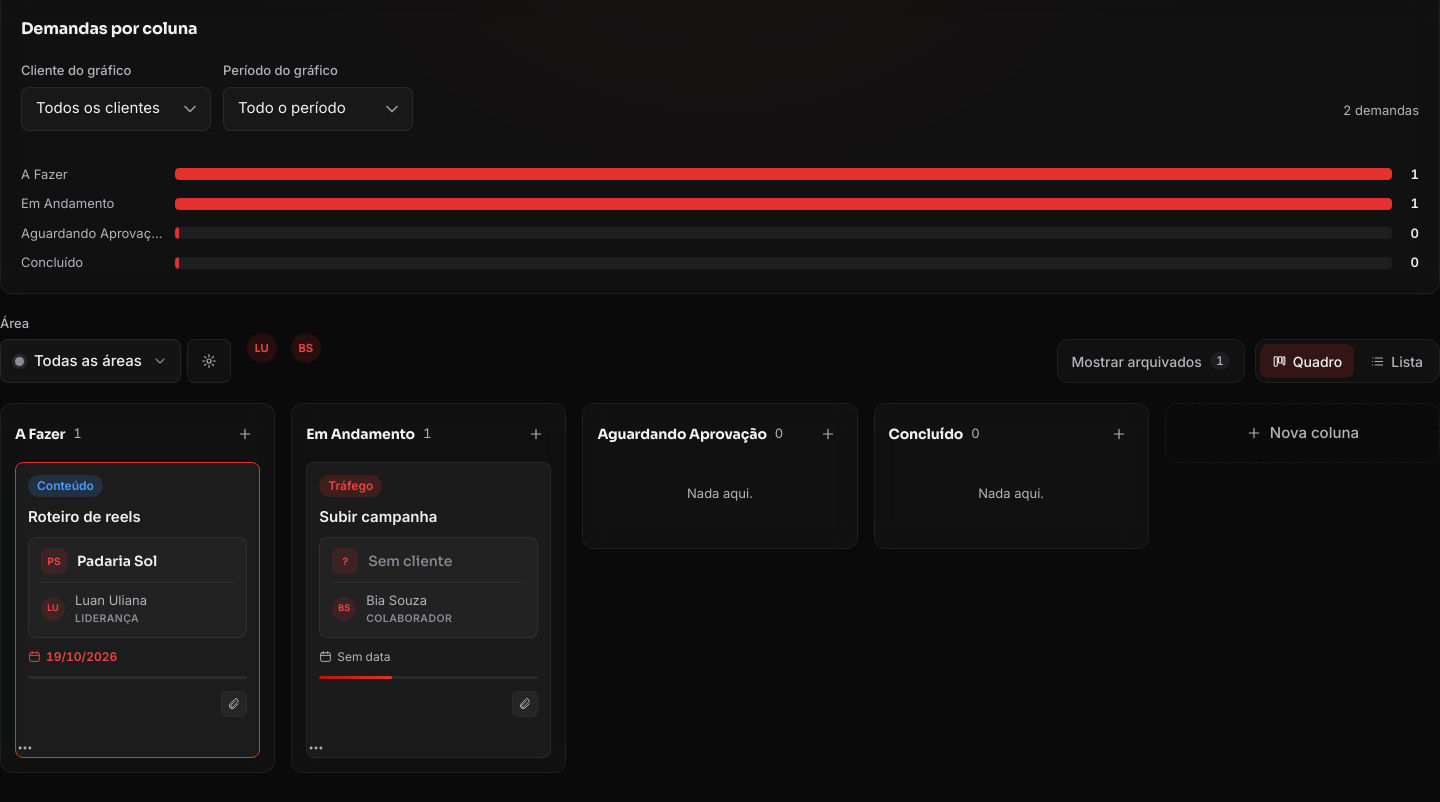
Test: DemandasPage › cria a demanda na coluna escolhida e registra a atividade
The width and height of the screenshot is (1440, 802).
Check: the text "Roteiro de reels" is shown, box [28,507,141,526]
Click the button named "Adicionar em Em Andamento".
click(536, 434)  # box [521,419,551,449]
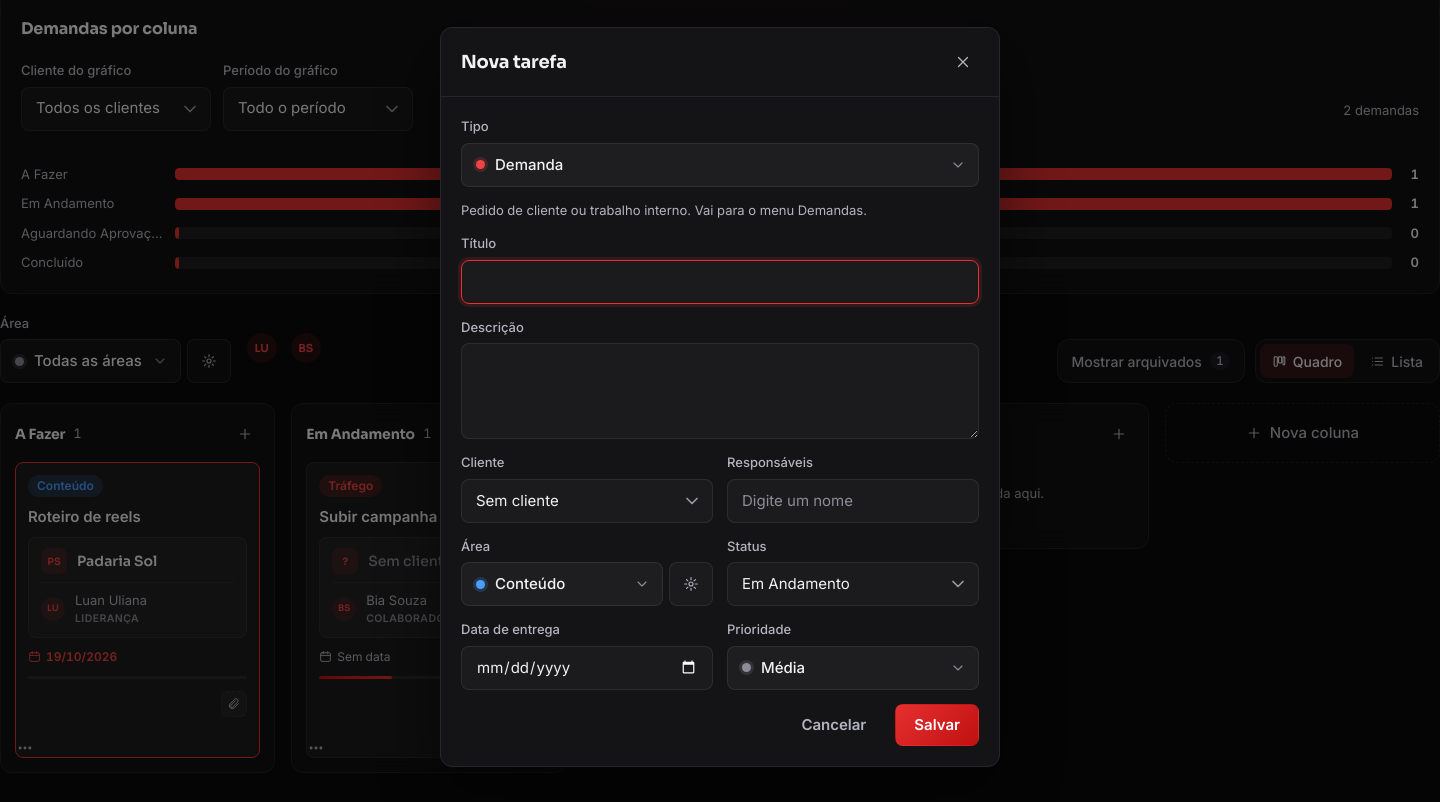
Check: the dropdown labelled "Status" shows "Em Andamento", box [727,562,979,606]
Type "Relatório mensal" into the field labelled "Título".
click(720, 282); type("Relatório mensal")  # box [461,260,979,304]
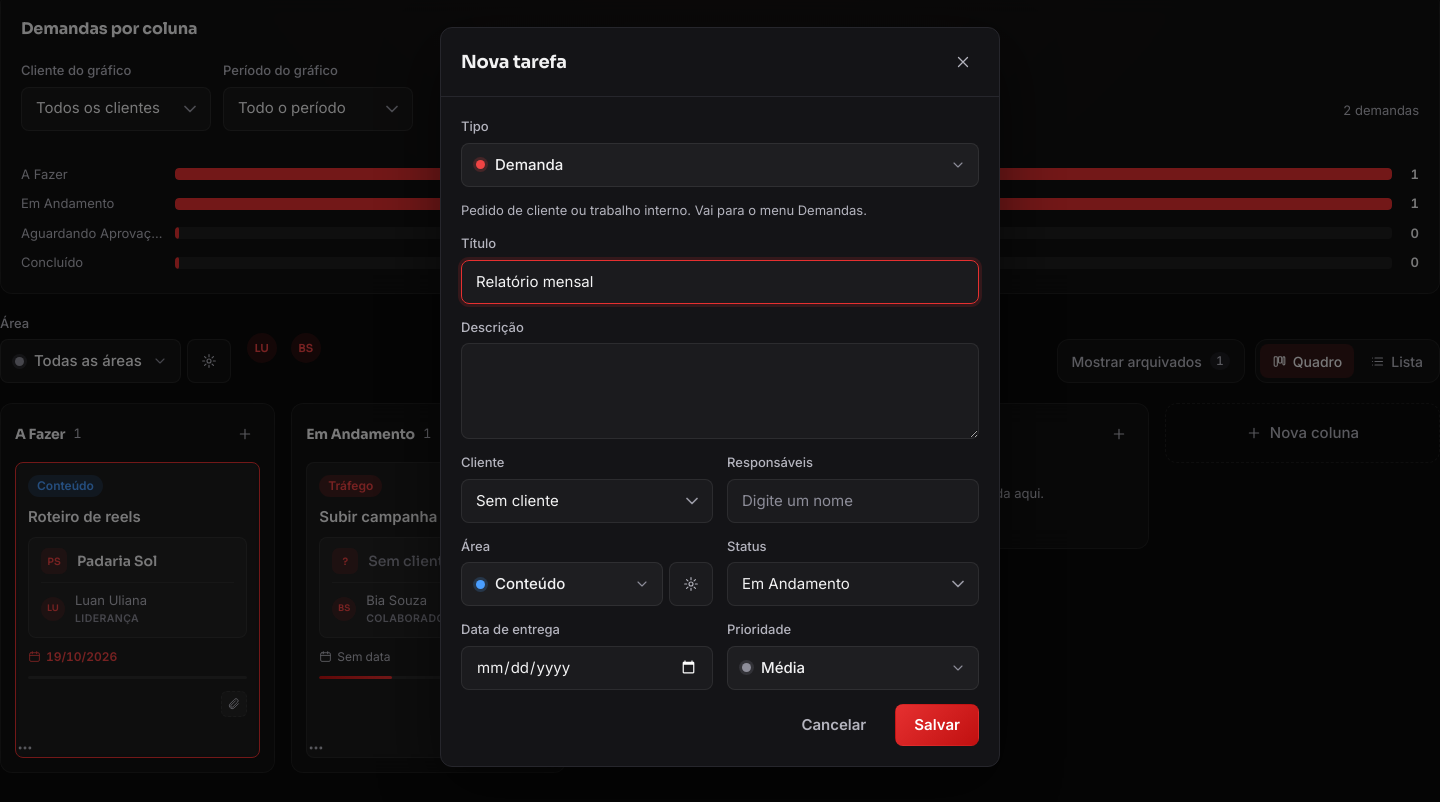
Select "Padaria Sol" in the dropdown labelled "Cliente" at (587,501), box [461,479,713,523]
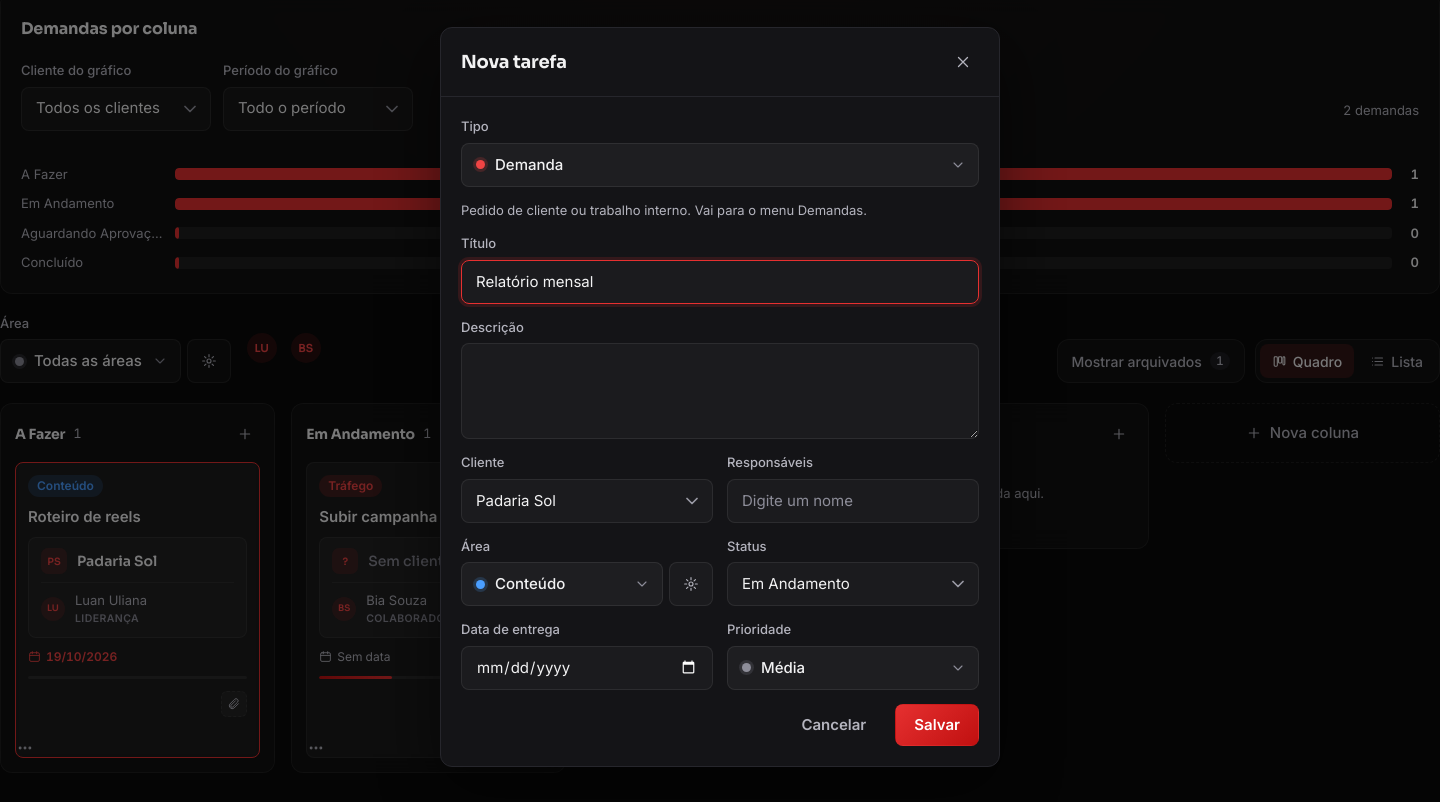
Click the dropdown named "Área".
click(562, 584)  # box [461,562,663,606]
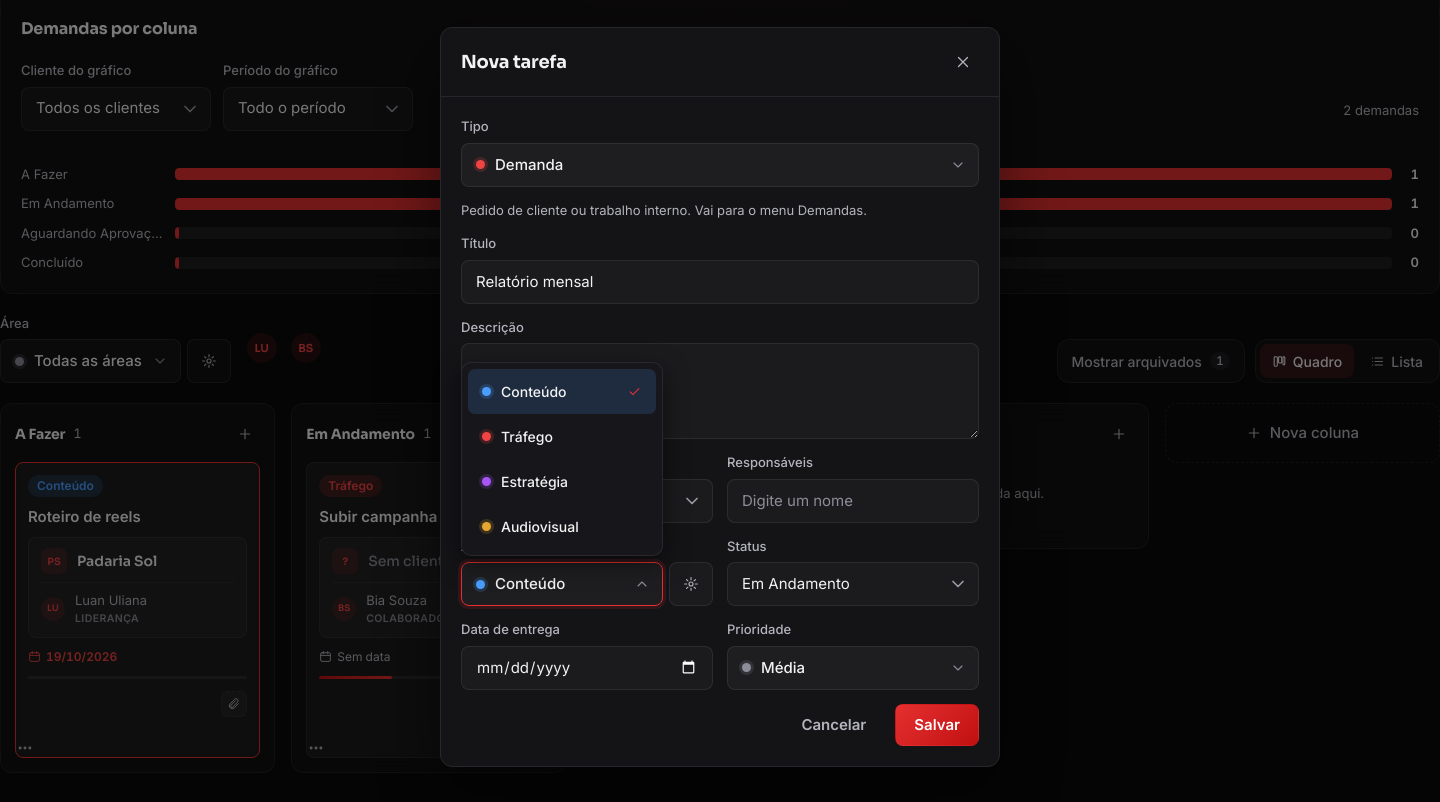
Click the option "Estratégia".
click(525, 482)  # box [482,473,568,490]
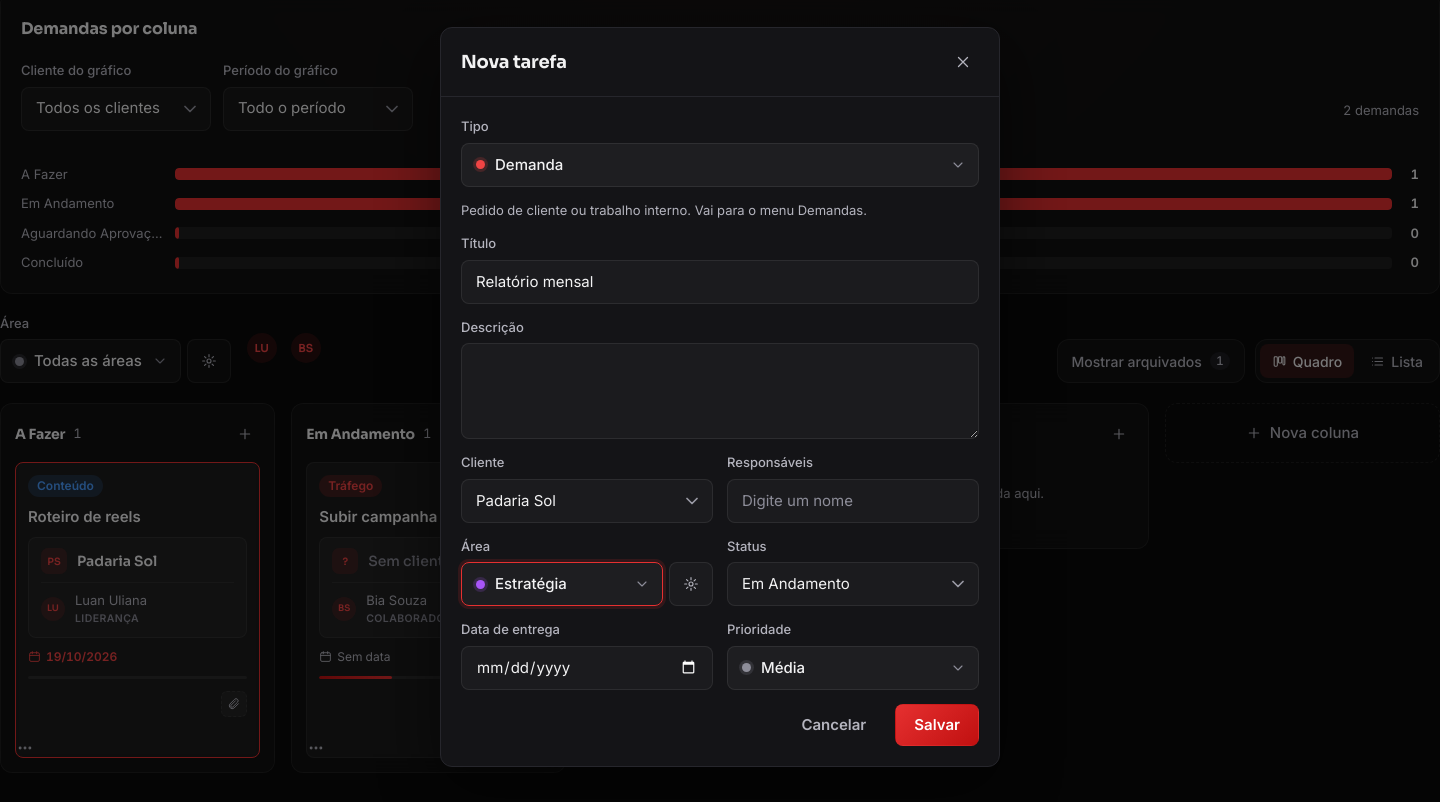
Click the button "Salvar".
click(937, 725)  # box [895,704,979,746]
(page scrolled)
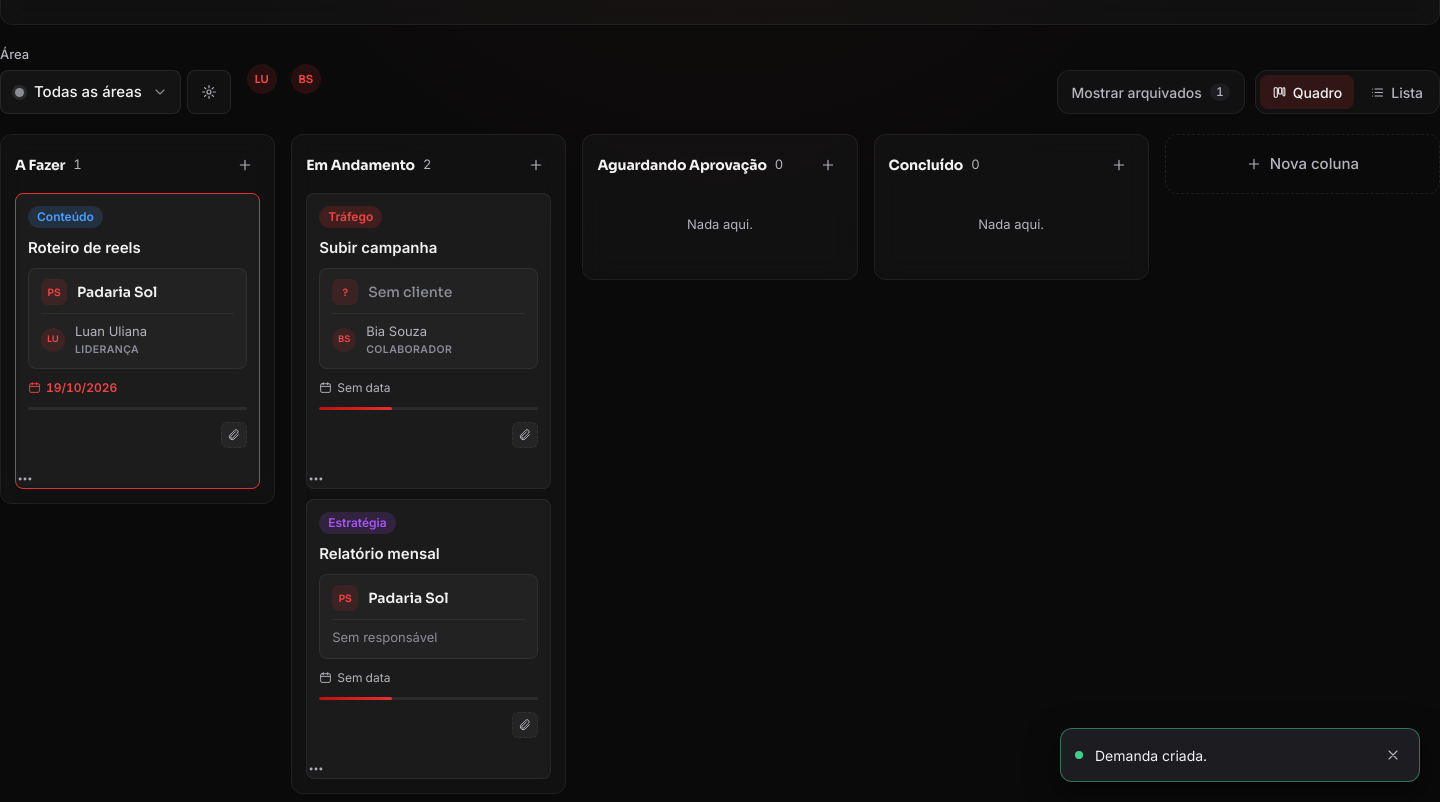
Check: the text "Demanda criada." is shown, box [1095,746,1207,764]
Check: the text "Relatório mensal" is shown, box [319,544,440,563]
